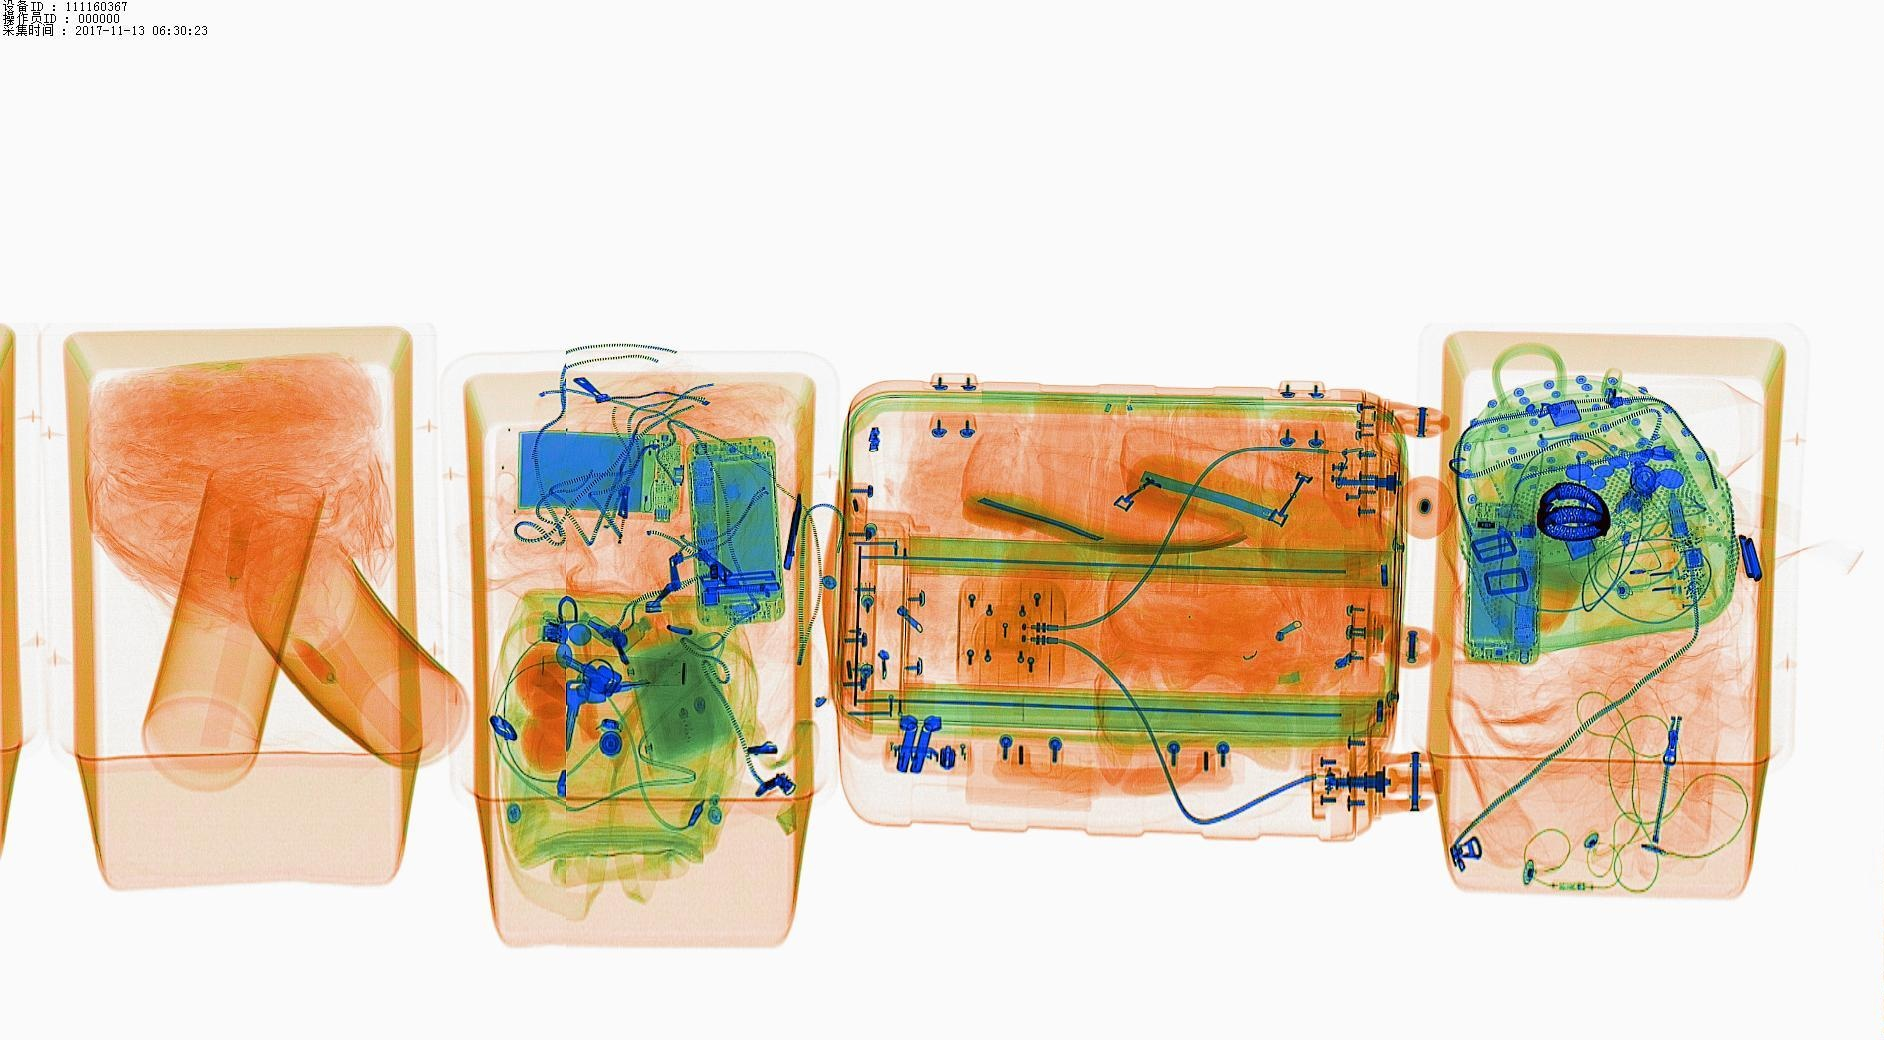coreless: (511, 434, 681, 515)
